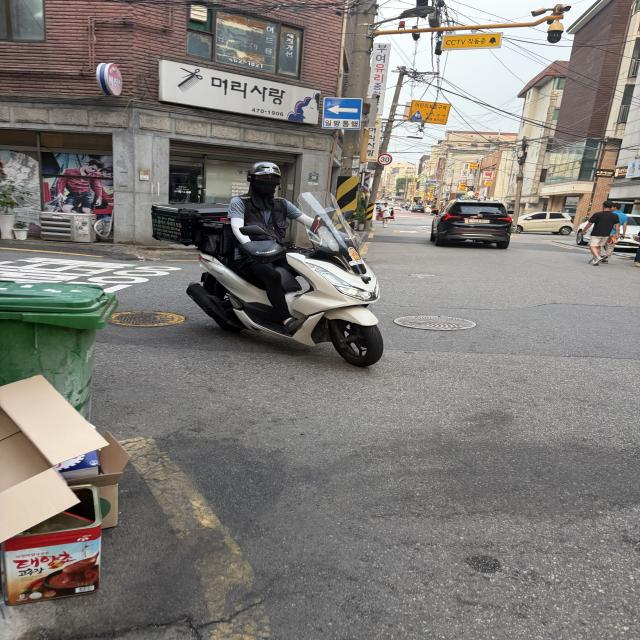car: (424, 190, 526, 260)
motorcycle: (157, 140, 421, 382)
